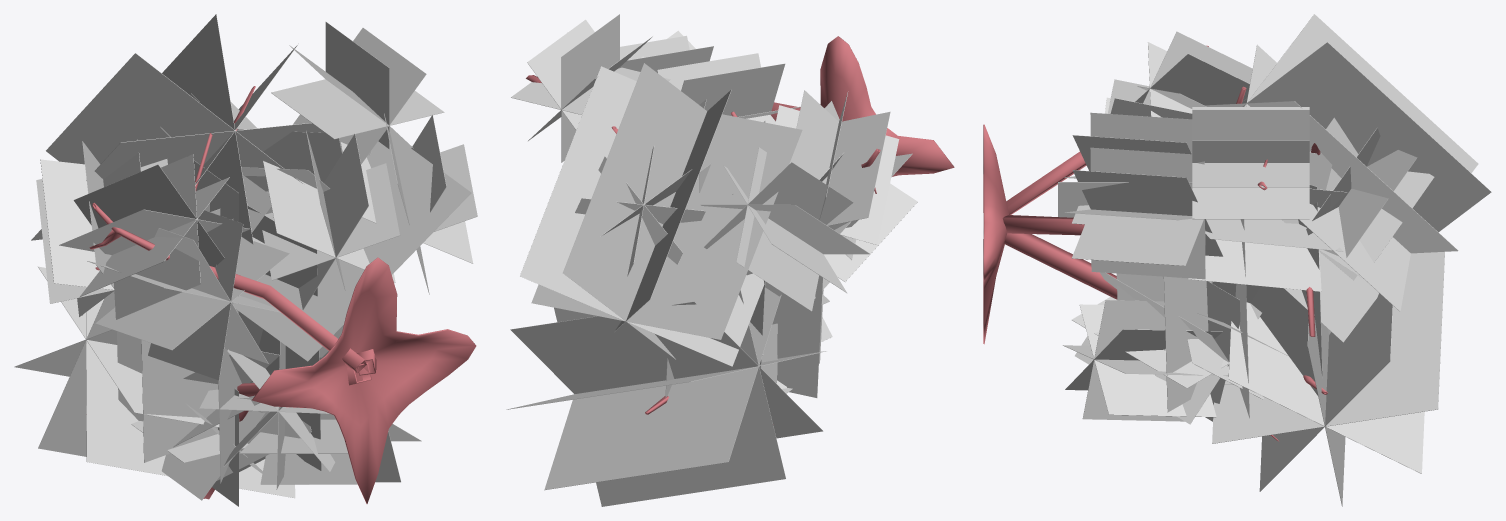
File: Bush.fbx
The picture shows the model from 3 angles, left to right: view 1: azimuth 30°, elevation 25°; view 2: azimuth 150°, elevation 25°; view 3: azimuth 270°, elevation 25°; orthographic projection. The views are drawn at different scales.
Visible parts, largest first — view 1: leafs, BRANCHES; view 2: leafs, BRANCHES; view 3: leafs, BRANCHES.
Boxes of the visible parts, left/top/right/bottom form: leafs: left=14, top=14, right=477, bottom=506; BRANCHES: left=86, top=86, right=476, bottom=503; leafs: left=506, top=14, right=917, bottom=506; BRANCHES: left=526, top=36, right=954, bottom=424; leafs: left=1058, top=14, right=1491, bottom=506; BRANCHES: left=983, top=45, right=1327, bottom=441.
Size of the model in its own units: 125 by 157 by 161.
